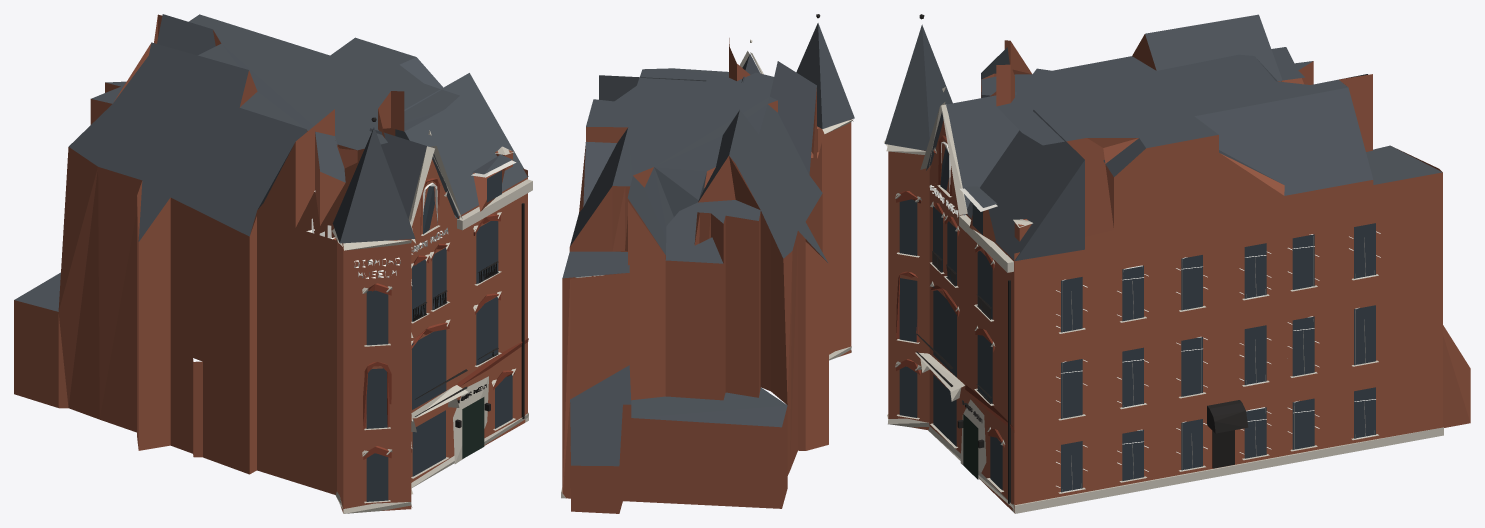
File: diamant-museum.lod1.glb
3 renders of one model, left to right at view 1: azimuth 30°, elevation 25°; view 2: azimuth 150°, elevation 25°; view 3: azimuth 270°, elevation 25°, orthographic. The views are drawn at different scales.
Visible parts, largest first — view 1: diamant-museum; view 2: diamant-museum; view 3: diamant-museum.
Part boxes in pixels (<box>): diamant-museum: <box>14,14,532,513</box>; diamant-museum: <box>561,14,854,513</box>; diamant-museum: <box>884,14,1470,513</box>.
Bounding box in the file's own units: 18.03 × 18.45 × 24.63.
